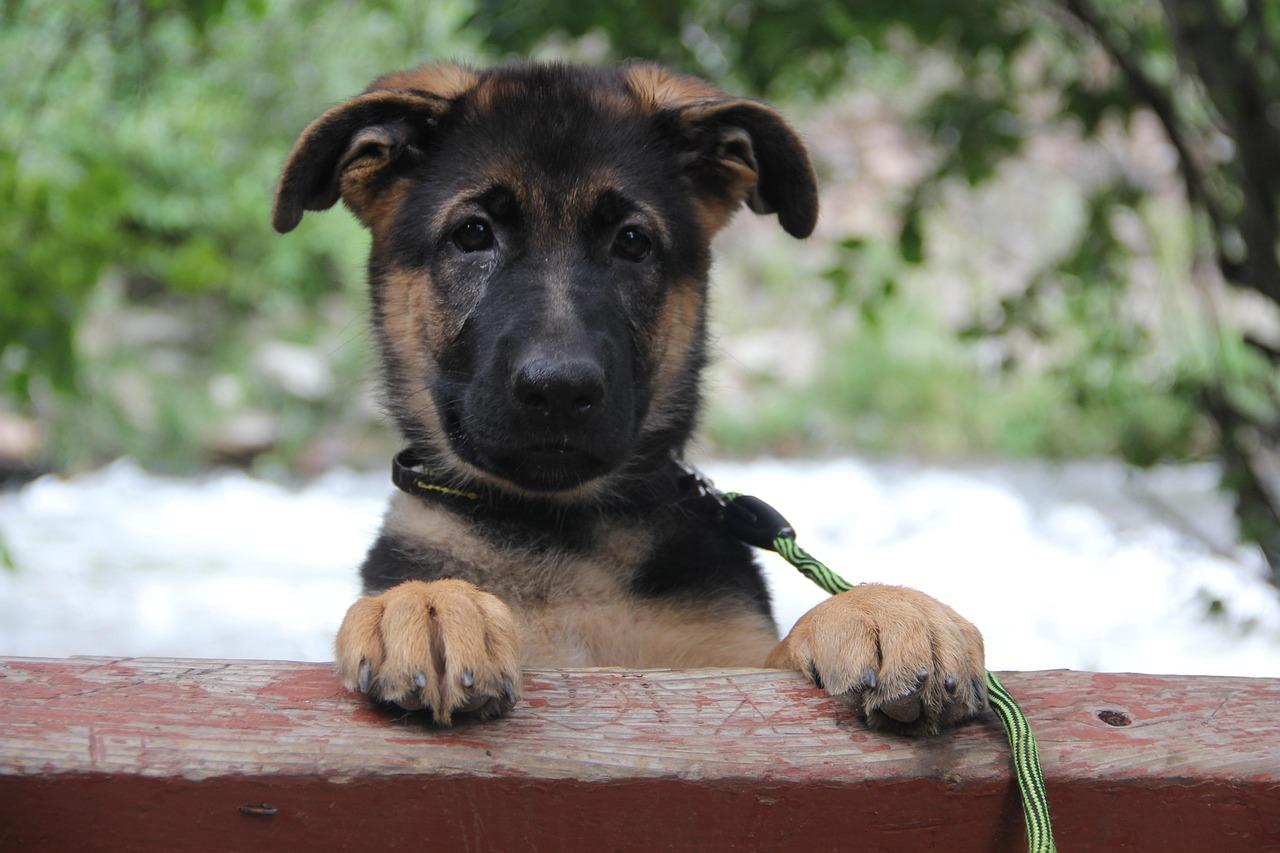german_shepherd: (303, 46, 797, 509)
